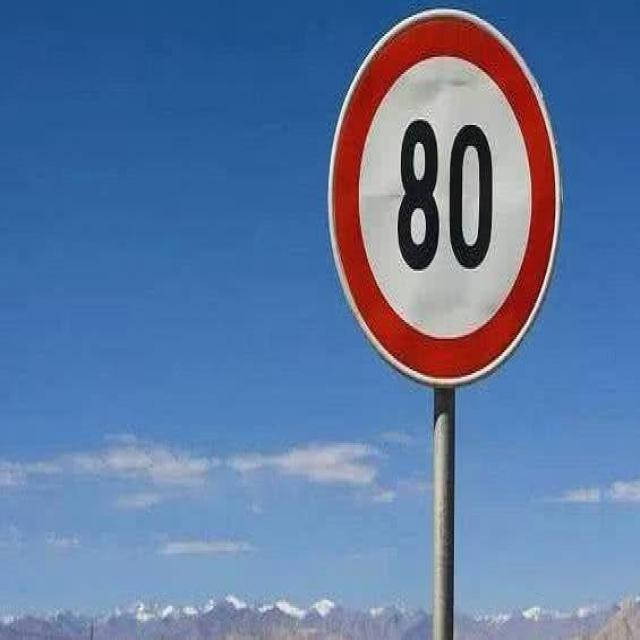speed limit 80: (328, 6, 561, 385)
